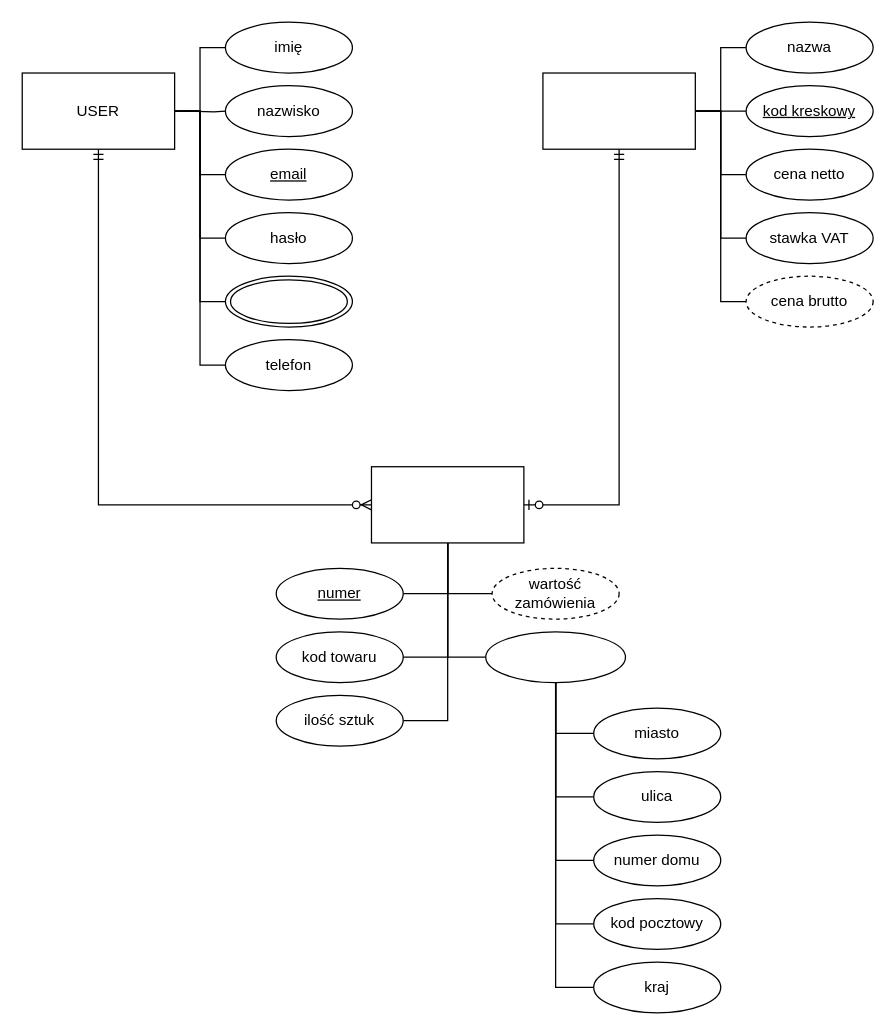
Image size: 895x1035. Some labels were removed from this diagram. The shapes that lost their labels are listed below. From the top down, each one's centre as x and y in pixels, then its label:
At (x=618, y=110): "PRODUKT".
At (x=288, y=301): "hobby".
At (x=447, y=504): "ZAMÓWIENIE".
At (x=555, y=657): "adres dostawy".
